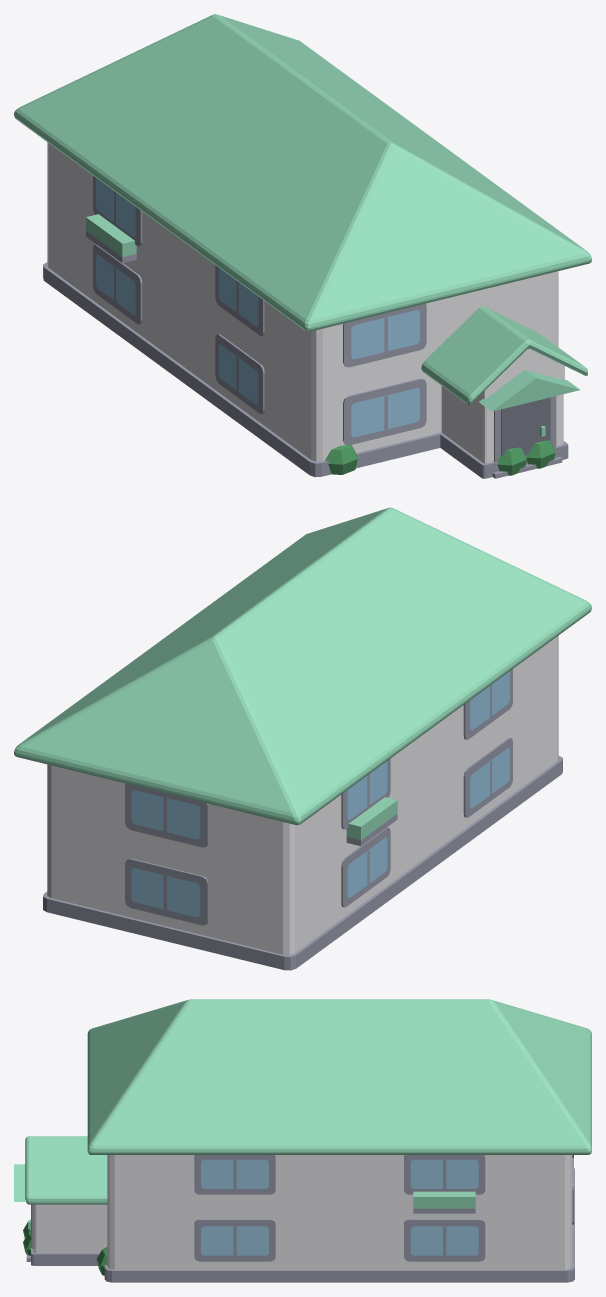
The model's file is house-1x2-2f-mansard-a.glb.
The picture shows the model from 3 angles, top to bottom: view 1: azimuth 30°, elevation 25°; view 2: azimuth 150°, elevation 25°; view 3: azimuth 270°, elevation 25°; orthographic projection. The views are drawn at different scales.
Visible parts, largest first — view 1: house-1x2-2f-mansard-a; view 2: house-1x2-2f-mansard-a; view 3: house-1x2-2f-mansard-a.
Part boxes in pixels (x1,y1,x2,y2): house-1x2-2f-mansard-a: [14, 14, 591, 478]; house-1x2-2f-mansard-a: [14, 507, 591, 970]; house-1x2-2f-mansard-a: [14, 999, 591, 1282].
Size of the model in its own units: 1 by 0.8961 by 2.04.
Materials: 1 (1 with a texture image).
